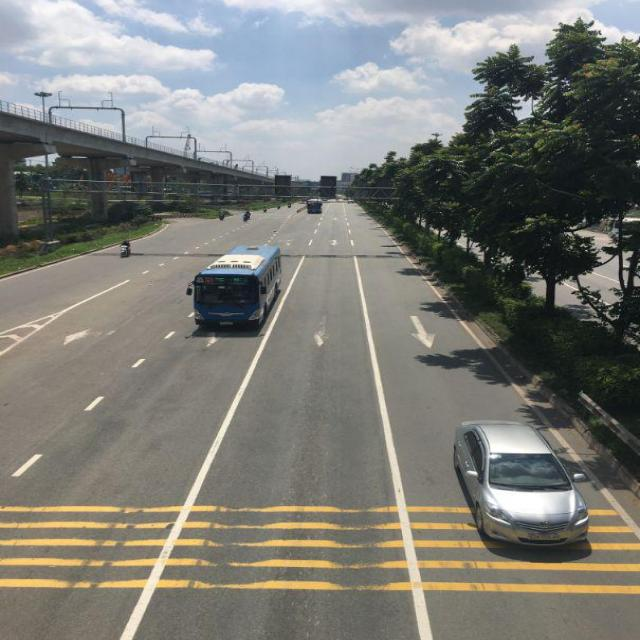bus: (190, 245, 284, 335), (306, 198, 324, 212)
car: (451, 422, 592, 551)
